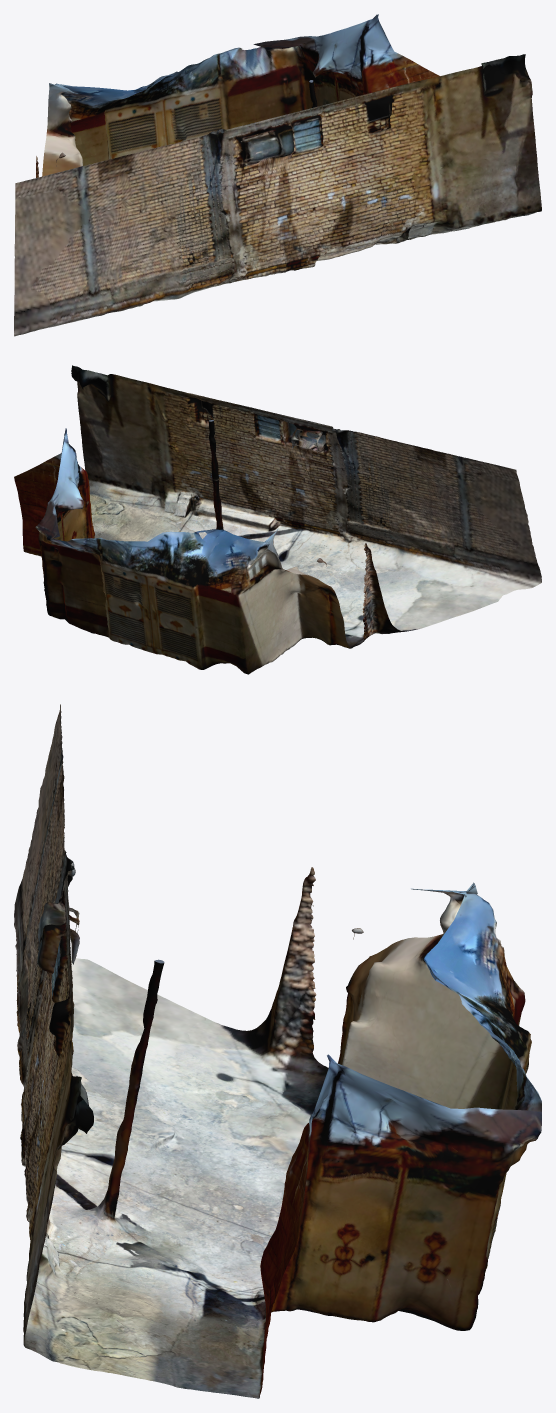
File: map2H.fbx
3 renders of one model, top to bottom at view 1: azimuth 30°, elevation 25°; view 2: azimuth 150°, elevation 25°; view 3: azimuth 270°, elevation 25°, orthographic. The views are drawn at different scales.
Parts seen in each view (by area): view 1: 3DModel; view 2: 3DModel; view 3: 3DModel.
Part boxes in pixels (bbox=[...]): 3DModel: bbox=[14, 14, 541, 336]; 3DModel: bbox=[14, 365, 541, 674]; 3DModel: bbox=[14, 704, 541, 1398].
Size of the model in its own units: 325 by 114 by 173.
1 material, 1 textured.
